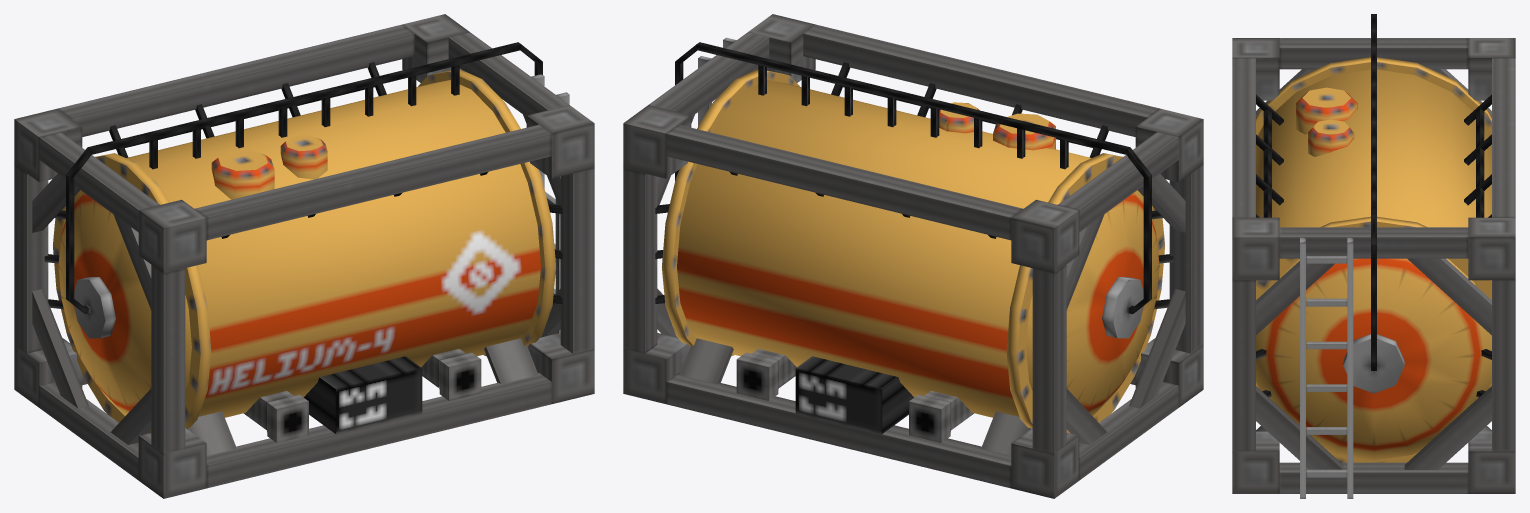
The model's file is machine_fluidtank_fluid_6.obj.
The picture shows the model from 3 angles, left to right: view 1: azimuth 30°, elevation 25°; view 2: azimuth 150°, elevation 25°; view 3: azimuth 270°, elevation 25°; orthographic projection. The views are drawn at different scales.
Parts seen in each view (by area): view 1: Frame, Tank; view 2: Frame, Tank; view 3: Frame, Tank.
Part boxes in pixels (box(x1,y1,x2,y2)): Frame: box(14, 14, 594, 498); Tank: box(53, 69, 555, 433); Frame: box(623, 14, 1203, 498); Tank: box(662, 69, 1164, 433); Frame: box(1232, 14, 1515, 498); Tank: box(1256, 57, 1491, 462).
Bounding box in the file's own units: 5.5 × 3.28 × 3.
